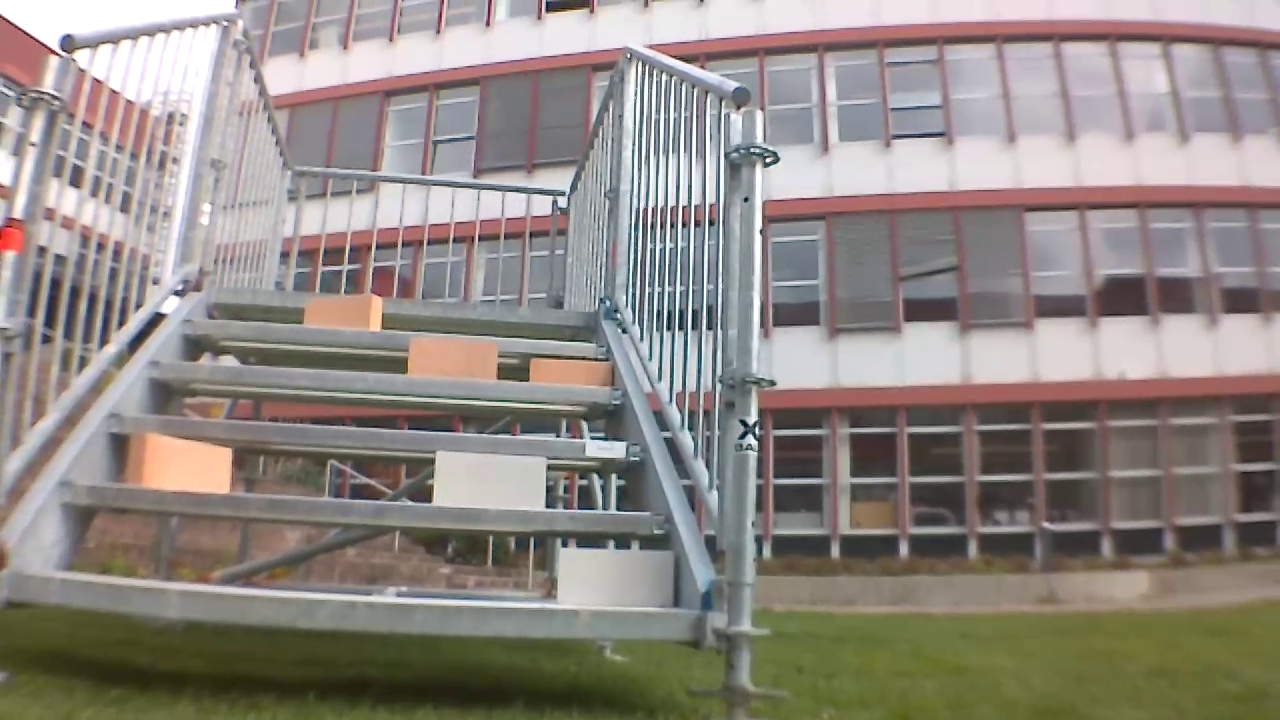brick: (557, 548, 672, 607), (127, 433, 232, 492), (434, 452, 543, 508), (409, 339, 496, 380), (305, 295, 381, 330), (528, 358, 612, 386)
edge: (6, 569, 700, 638), (60, 479, 668, 532), (109, 412, 644, 462), (151, 361, 624, 405), (184, 319, 607, 358), (211, 286, 595, 324)
stairs: (9, 11, 781, 716)
steps: (8, 282, 708, 643)
